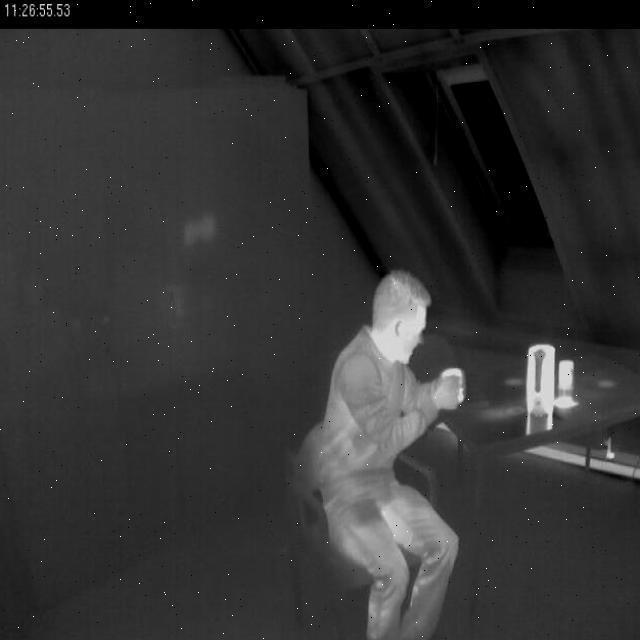person: (298, 266, 473, 640)
